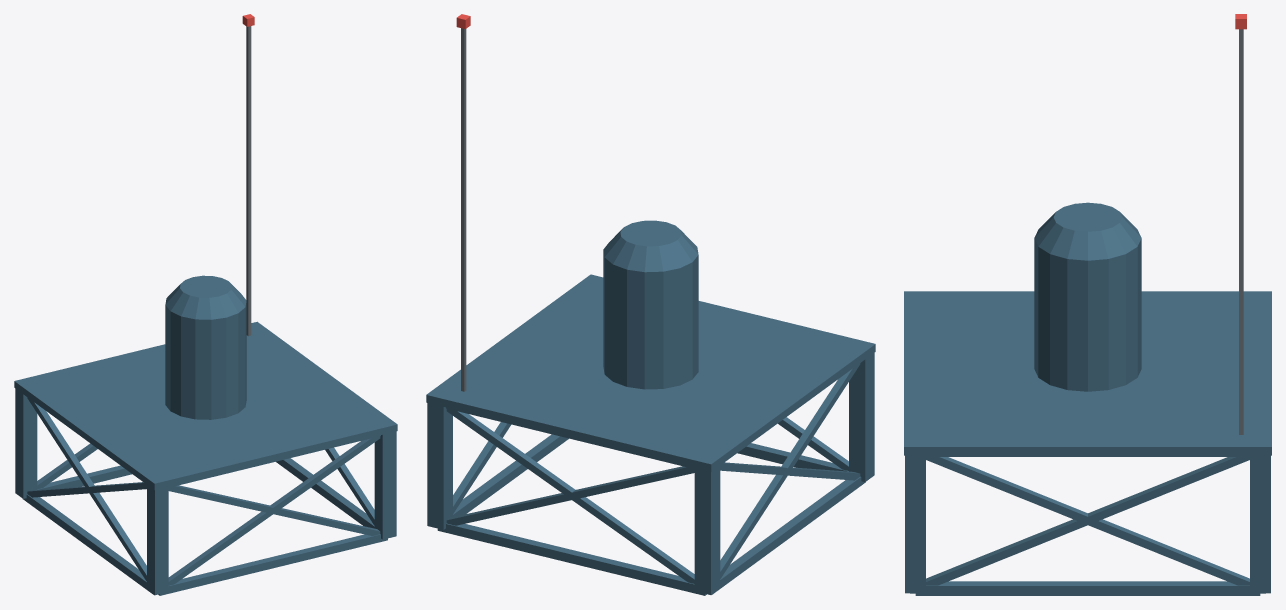
The model's file is pad_gantry_crown.fbx.
The picture shows the model from 3 angles, left to right: view 1: azimuth 30°, elevation 25°; view 2: azimuth 150°, elevation 25°; view 3: azimuth 270°, elevation 25°; orthographic projection. The views are drawn at different scales.
Parts seen in each view (by area): view 1: pad_gantry_crown; view 2: pad_gantry_crown; view 3: pad_gantry_crown.
Part boxes in pixels (bbox=[...]): pad_gantry_crown: bbox=[14, 14, 397, 595]; pad_gantry_crown: bbox=[426, 14, 875, 595]; pad_gantry_crown: bbox=[904, 14, 1271, 595].
Bounding box in the file's own units: 9.6 × 16.39 × 9.6.
